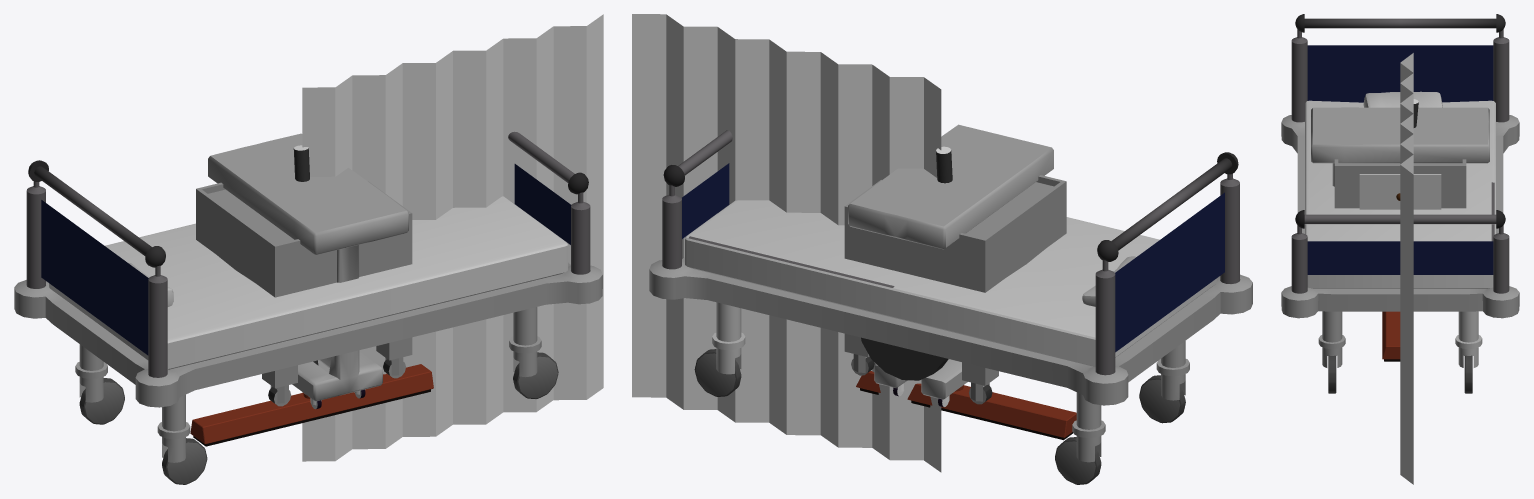
The model's file is firstRoom.fbx.
The picture shows the model from 3 angles, left to right: view 1: azimuth 30°, elevation 25°; view 2: azimuth 150°, elevation 25°; view 3: azimuth 270°, elevation 25°; orthographic projection. The views are drawn at different scales.
Visible parts, largest first — view 1: hospitalBed, perde, yatakMasasi, ICUdolabi, paspas; view 2: hospitalBed, perde, yatakMasasi, ICUdolabi, paspas, duvarLambasi; view 3: hospitalBed, yatakMasasi, perde, ICUdolabi, paspas.
Part boxes in pixels (bbox=[...]): hospitalBed: bbox=[14, 131, 602, 484]; perde: bbox=[302, 14, 603, 461]; yatakMasasi: bbox=[208, 133, 408, 409]; ICUdolabi: bbox=[196, 181, 412, 406]; paspas: bbox=[190, 145, 433, 446]; hospitalBed: bbox=[649, 130, 1252, 484]; perde: bbox=[632, 14, 941, 472]; yatakMasasi: bbox=[848, 124, 1053, 406]; ICUdolabi: bbox=[844, 175, 1066, 404]; paspas: bbox=[856, 146, 1076, 440]; duvarLambasi: bbox=[861, 337, 948, 380]; hospitalBed: bbox=[1281, 14, 1519, 393]; yatakMasasi: bbox=[1311, 107, 1489, 186]; perde: bbox=[1400, 53, 1413, 484]; ICUdolabi: bbox=[1334, 159, 1466, 209]; paspas: bbox=[1382, 99, 1418, 361].
Bounding box in the file's own units: 249 × 167 × 116.
